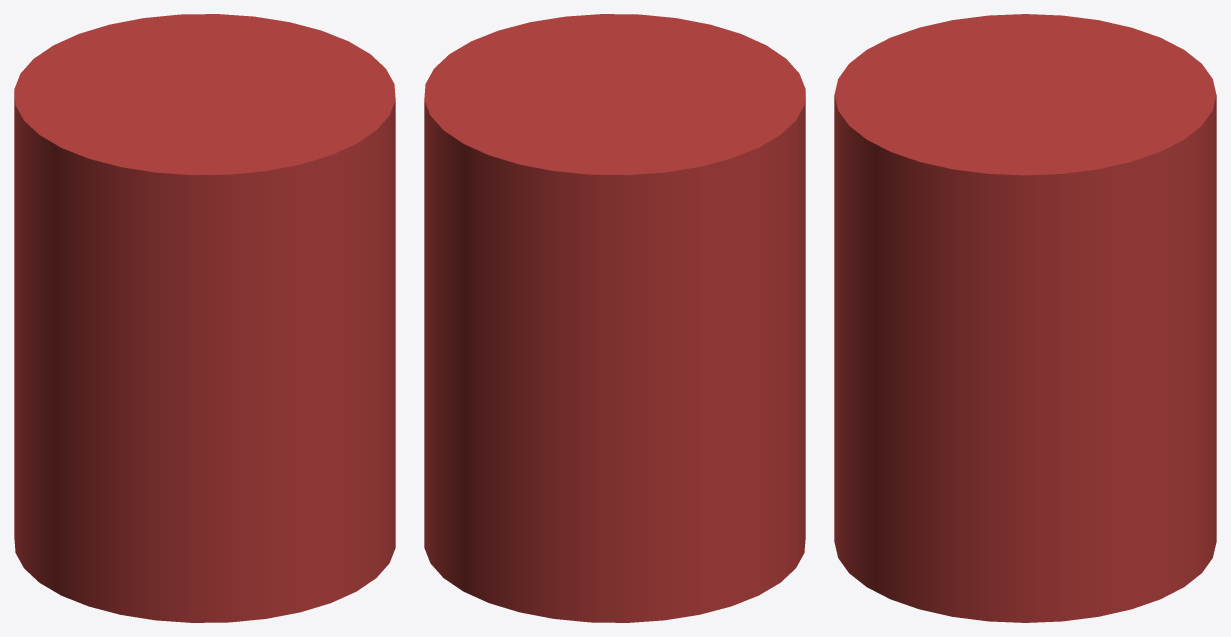
File: Drum.fbx
3 renders of one model, left to right at view 1: azimuth 30°, elevation 25°; view 2: azimuth 150°, elevation 25°; view 3: azimuth 270°, elevation 25°, orthographic.
Visible parts, largest first — view 1: Drum; view 2: Drum; view 3: Drum.
Part boxes in pixels (bbox=[...]): Drum: bbox=[14, 14, 395, 622]; Drum: bbox=[424, 14, 805, 622]; Drum: bbox=[834, 14, 1216, 622].
Bounding box in the file's own units: 155 × 200 × 155.
